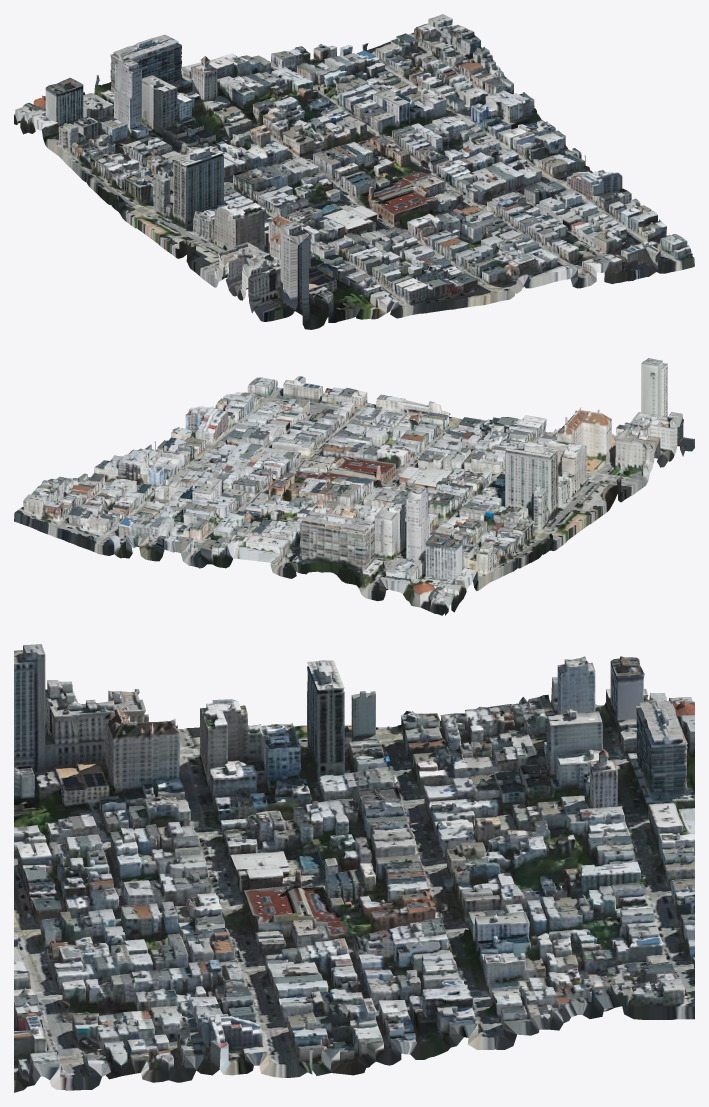
File: z16-10483-25326-h0-yup-uvflip-v3-world.glb
3 views of the same model, one above another, from view 1: azimuth 30°, elevation 25°; view 2: azimuth 150°, elevation 25°; view 3: azimuth 270°, elevation 25° (orthographic). The views are drawn at different scales.
Size of the model in its own units: 483 by 153 by 485.
1 material, 1 textured.
